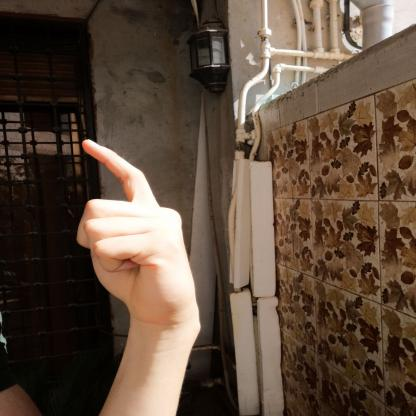RAA: (62, 131, 212, 319)
